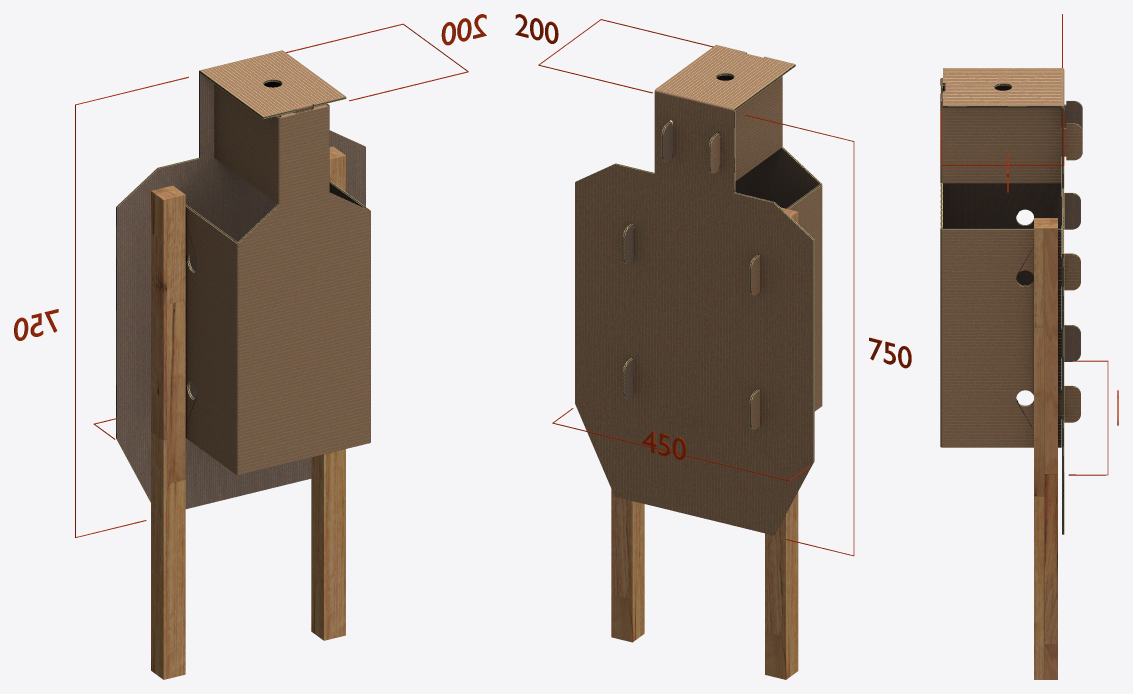
Rendered from ami2.glb.
The picture shows the model from 3 angles, left to right: view 1: azimuth 30°, elevation 25°; view 2: azimuth 150°, elevation 25°; view 3: azimuth 270°, elevation 25°; orthographic projection. The views are drawn at different scales.
Visible parts, largest first — view 1: SILUETA_3D---PARA_ARTIOS_ARD-node, SILUETA_3D---PARA_ARTIOS_ARD_D2-node, Cubo, Plano.002; view 2: SILUETA_3D---PARA_ARTIOS_ARD_D2-node, SILUETA_3D---PARA_ARTIOS_ARD-node, Cubo, Plano.002; view 3: SILUETA_3D---PARA_ARTIOS_ARD-node, Cubo, SILUETA_3D---PARA_ARTIOS_ARD_D2-node, Plano, Plano.001.
Boxes of the visible parts, left/top/right/bottom form: SILUETA_3D---PARA_ARTIOS_ARD-node: left=185, top=81, right=370, bottom=475; SILUETA_3D---PARA_ARTIOS_ARD_D2-node: left=116, top=50, right=365, bottom=508; Cubo: left=151, top=146, right=345, bottom=679; Plano.002: left=75, top=76, right=188, bottom=537; SILUETA_3D---PARA_ARTIOS_ARD_D2-node: left=575, top=45, right=814, bottom=535; SILUETA_3D---PARA_ARTIOS_ARD-node: left=623, top=75, right=822, bottom=429; Cubo: left=611, top=207, right=798, bottom=679; Plano.002: left=745, top=114, right=854, bottom=556; SILUETA_3D---PARA_ARTIOS_ARD-node: left=940, top=77, right=1082, bottom=447; Cubo: left=1034, top=218, right=1057, bottom=679; SILUETA_3D---PARA_ARTIOS_ARD_D2-node: left=943, top=68, right=1064, bottom=534; Plano: left=1068, top=360, right=1108, bottom=475; Plano.001: left=940, top=110, right=1064, bottom=165.
Size of the model in its own units: 0.801 by 1.04 by 0.2962.
Materials: 7 (6 with a texture image).
